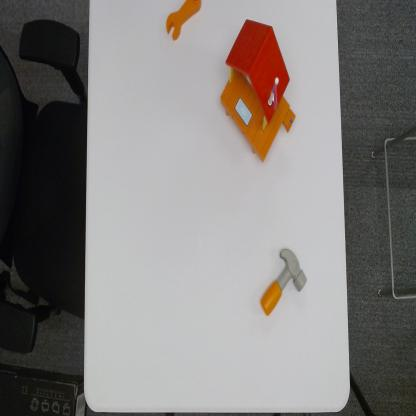Hammer: (260, 245, 308, 316)
House: (219, 17, 296, 165)
Screwdriver: (165, 0, 202, 42)
